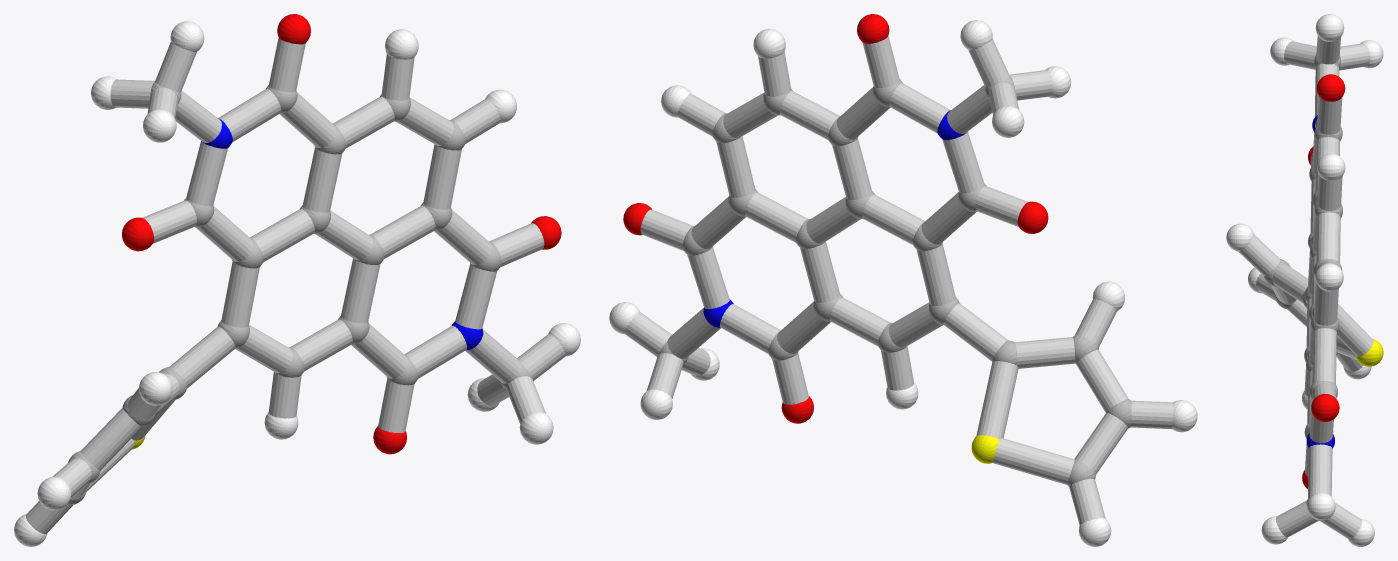
File: Dimethyl_Naphthalene_Dicarboximide_Phi_5_Theta_310_Thiophene.glb
3 views of the same model, side by side, from view 1: azimuth 30°, elevation 25°; view 2: azimuth 150°, elevation 25°; view 3: azimuth 270°, elevation 25° (orthographic). The views are drawn at different scales.
Visible parts, largest first — view 1: grp14119, grp7241, grp1, grp12309, grp11585; view 2: grp14119, grp7241, grp1, grp12309, grp11585; view 3: grp14119, grp7241, grp1, grp12309, grp13757, grp11585.
Part boxes in pixels (x1=…): grp14119: x1=26, y1=37, x2=565, y2=534; grp7241: x1=14, y1=21, x2=580, y2=546; grp1: x1=68, y1=82, x2=531, y2=504; grp12309: x1=122, y1=14, x2=561, y2=454; grp11585: x1=201, y1=118, x2=483, y2=350; grp14119: x1=624, y1=36, x2=1173, y2=524; grp7241: x1=609, y1=20, x2=1197, y2=546; grp1: x1=659, y1=76, x2=1131, y2=486; grp12309: x1=623, y1=14, x2=1048, y2=423; grp11585: x1=703, y1=110, x2=965, y2=327; grp14119: x1=1238, y1=35, x2=1373, y2=539; grp7241: x1=1226, y1=14, x2=1383, y2=546; grp1: x1=1264, y1=54, x2=1342, y2=520; grp12309: x1=1302, y1=74, x2=1345, y2=488; grp13757: x1=1355, y1=339, x2=1383, y2=366; grp11585: x1=1306, y1=115, x2=1334, y2=448.
Bounding box in the file's own units: 11.74 × 9.78 × 3.32.
